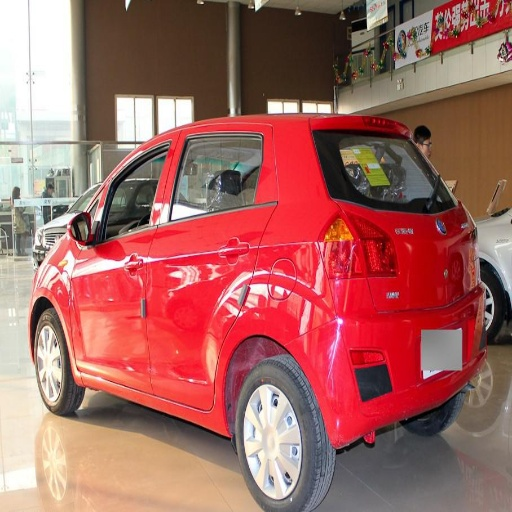back_bumper: (341, 361, 467, 443)
back_glass: (332, 139, 439, 207)
back_left_door: (147, 131, 274, 400)
hood: (423, 255, 464, 304)
trunk: (353, 210, 467, 390), (322, 376, 384, 433)
